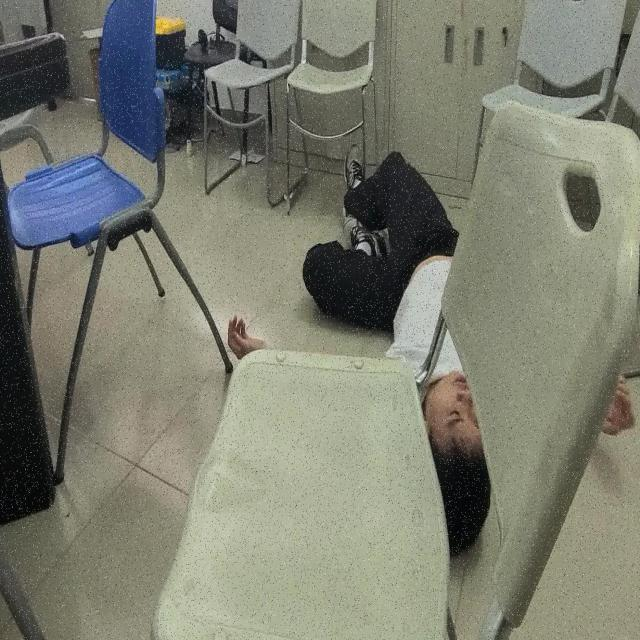fall: (226, 135, 633, 554)
